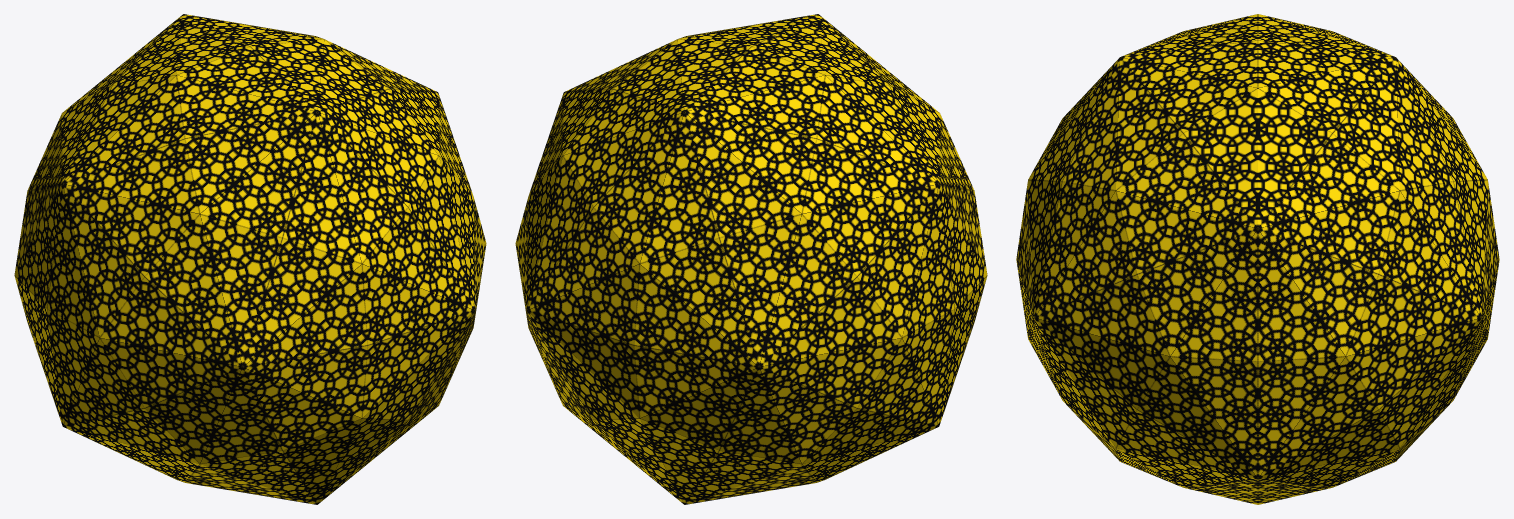
The model's file is disdyakis-triacontahedron.gltf.
3 views of the same model, side by side, from view 1: azimuth 30°, elevation 25°; view 2: azimuth 150°, elevation 25°; view 3: azimuth 270°, elevation 25° (orthographic). The views are drawn at different scales.
Parts seen in each view (by area): view 1: Disdyakistriaconta; view 2: Disdyakistriaconta; view 3: Disdyakistriaconta.
Part boxes in pixels (x1=…): Disdyakistriaconta: x1=14, y1=14, x2=486, y2=504; Disdyakistriaconta: x1=515, y1=14, x2=987, y2=504; Disdyakistriaconta: x1=1016, y1=14, x2=1499, y2=504.
Bounding box in the file's own units: 10 × 10 × 10.
1 material, 1 textured.
